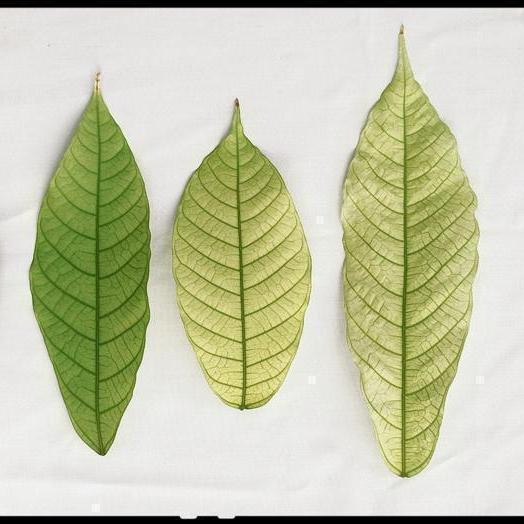Iron: (341, 26, 478, 476), (30, 75, 150, 454), (172, 100, 311, 409)
